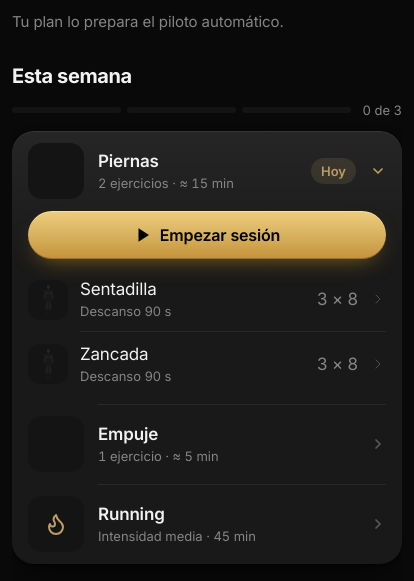
routine in order › folds the open session on a second tap and keeps the rest folded
Click the button "Piernas 2 ejercicios · ≈ 15 min Hoy" at (56, 171), box [12,131,402,211]
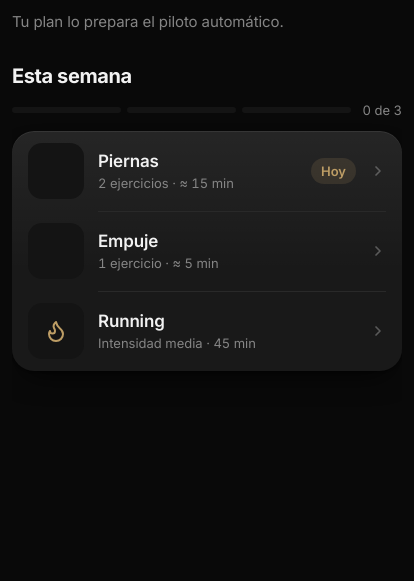
Result: the button "Empezar sesión" is gone
